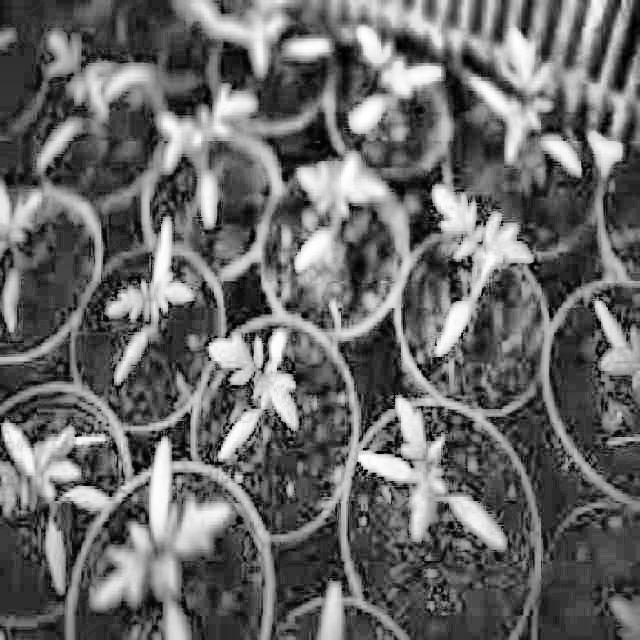plants: (342, 384, 510, 616), (189, 294, 363, 500), (86, 448, 254, 637), (77, 213, 231, 413), (0, 353, 114, 619), (137, 84, 270, 245), (279, 143, 407, 308), (30, 20, 156, 180), (426, 178, 517, 364), (340, 6, 445, 165), (0, 160, 86, 340), (209, 0, 328, 88), (282, 570, 389, 636)
